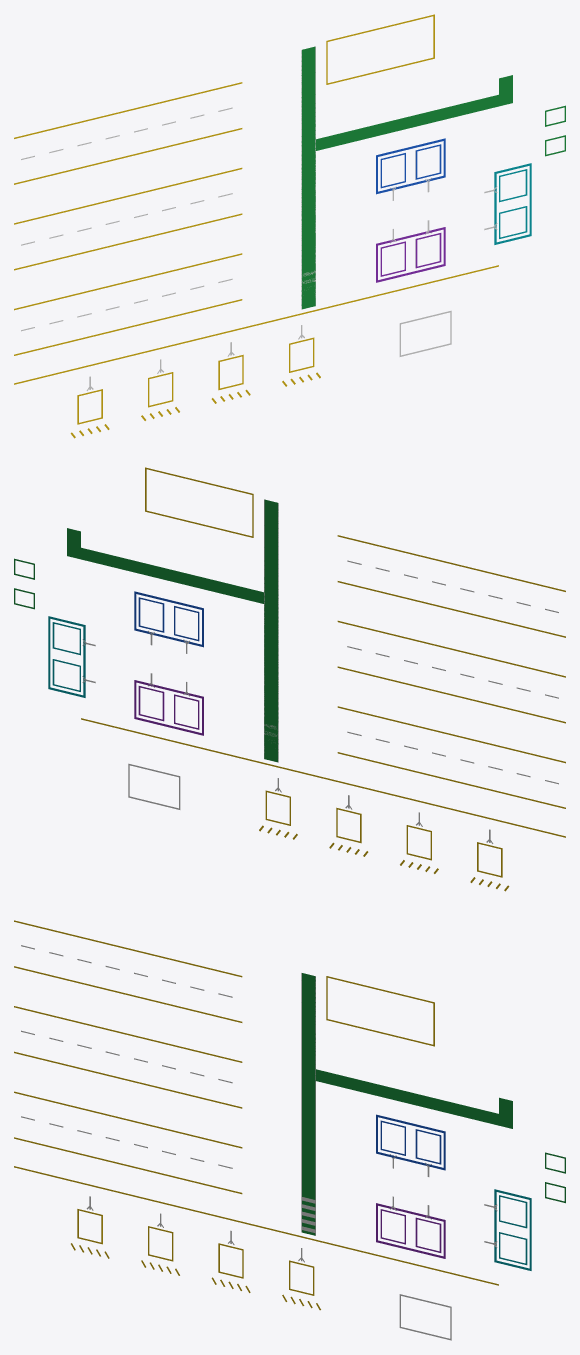
Rendered from floor_markings.obj.
The picture shows the model from 3 angles, top to bottom: view 1: azimuth 30°, elevation 25°; view 2: azimuth 150°, elevation 25°; view 3: azimuth 330°, elevation 25°; orthographic projection.
Visible parts, largest first — view 1: green, yellow, white, c_0_178_191, c_25_102_229, c_153_51_204; view 2: green, yellow, white, c_0_178_191, c_25_102_229, c_153_51_204; view 3: green, yellow, white, c_0_178_191, c_25_102_229, c_153_51_204.
Boxes of the visible parts, x1,y1,x2,y2 form: green: (301, 46, 565, 309); yellow: (14, 14, 498, 438); white: (21, 46, 497, 390); c_0_178_191: (494, 163, 531, 244); c_25_102_229: (376, 138, 445, 194); c_153_51_204: (376, 227, 445, 282); green: (14, 499, 278, 762); yellow: (81, 467, 565, 891); white: (82, 499, 558, 843); c_0_178_191: (48, 616, 85, 697); c_25_102_229: (134, 591, 203, 647); c_153_51_204: (134, 680, 203, 735); green: (302, 973, 565, 1235); yellow: (14, 920, 498, 1310); white: (21, 945, 497, 1340); c_0_178_191: (494, 1189, 531, 1270); c_25_102_229: (376, 1114, 445, 1170); c_153_51_204: (376, 1203, 445, 1258).
Bounding box in the file's own units: 39.15 × 22.79 × 0.002.
